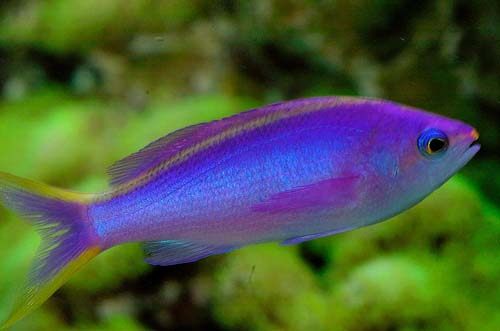fish: (1, 95, 480, 329)
